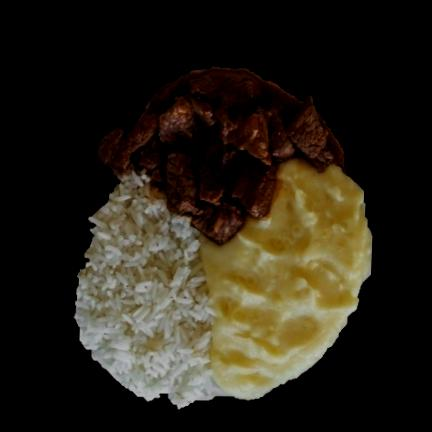meat: (98, 68, 345, 243)
potato: (200, 160, 372, 399)
rice: (75, 171, 217, 408)
